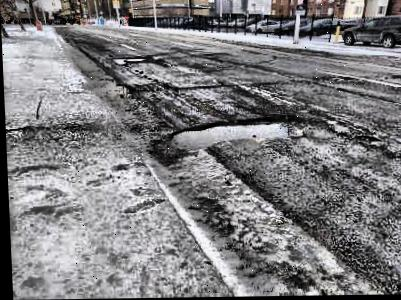pothole: (165, 116, 304, 149)
